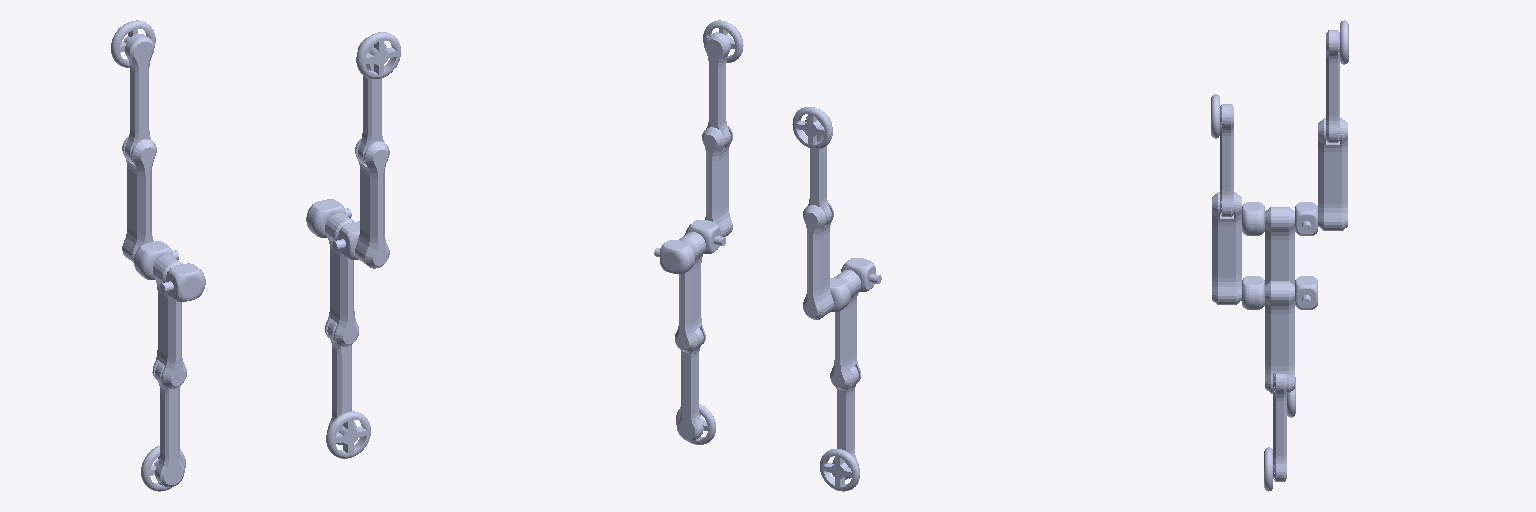
robot.urdf — dog_asm2:
<?xml version="1.0" encoding="utf-8"?>
<!-- This URDF was automatically created by SolidWorks to URDF Exporter! Originally created by [author] ([email redacted]) 
     Commit Version: 1.6.0-4-g7f85cfe  Build Version: 1.6.7995.38578
     For more information, please see http://wiki.ros.org/sw_urdf_exporter -->
<robot
  name="dog_asm2">
  <link
    name="Body">
    <inertial>
      <origin
        xyz="0.00138 8.263E-08 0.023473"
        rpy="0 0 0" />
      <mass
        value="15.156" />
      <inertia
        ixx="0.094082"
        ixy="-2.6571E-07"
        ixz="-0.0015648"
        iyy="0.33465"
        iyz="4.4097E-09"
        izz="0.38795" />
    </inertial>
    <visual>
      <origin
        xyz="0 0 0"
        rpy="0 0 0" />
      <geometry>
        <mesh
          filename="package://dog_asm2/meshes/Body.STL" />
      </geometry>
      <material
        name="">
        <color
          rgba="0.79216 0.81961 0.93333 1" />
      </material>
    </visual>
    <collision>
      <origin
        xyz="0 0 0"
        rpy="0 0 0" />
      <geometry>
        <mesh
          filename="package://dog_asm2/meshes/Body.STL" />
      </geometry>
    </collision>
  </link>
  <link
    name="ShoulderLF">
    <inertial>
      <origin
        xyz="-3.9581E-08 -0.0016347 0.0009406"
        rpy="0 0 0" />
      <mass
        value="0.71324" />
      <inertia
        ixx="0.00098521"
        ixy="-3.857E-10"
        ixz="-5.2743E-10"
        iyy="0.0010271"
        iyz="-1.0977E-06"
        izz="0.0008053" />
    </inertial>
    <visual>
      <origin
        xyz="0 0 0"
        rpy="0 0 0" />
      <geometry>
        <mesh
          filename="package://dog_asm2/meshes/ShoulderLF.STL" />
      </geometry>
      <material
        name="">
        <color
          rgba="0.79216 0.81961 0.93333 1" />
      </material>
    </visual>
    <collision>
      <origin
        xyz="0 0 0"
        rpy="0 0 0" />
      <geometry>
        <mesh
          filename="package://dog_asm2/meshes/ShoulderLF.STL" />
      </geometry>
    </collision>
  </link>
  <joint
    name="JShoulderLF"
    type="revolute">
    <origin
      xyz="0.29653 0.09 0.045"
      rpy="0 -1.5708 0" />
    <parent
      link="Body" />
    <child
      link="ShoulderLF" />
    <axis
      xyz="0 0 1" />
    <limit
      lower="0"
      upper="0"
      effort="0"
      velocity="0" />
  </joint>
  <link
    name="LegUpLF">
    <inertial>
      <origin
        xyz="0.14026 -1.4694E-09 -0.049588"
        rpy="0 0 0" />
      <mass
        value="1.8015" />
      <inertia
        ixx="0.0018561"
        ixy="2.3214E-10"
        ixz="0.0001041"
        iyy="0.025399"
        iyz="2.0829E-11"
        izz="0.02454" />
    </inertial>
    <visual>
      <origin
        xyz="0 0 0"
        rpy="0 0 0" />
      <geometry>
        <mesh
          filename="package://dog_asm2/meshes/LegUpLF.STL" />
      </geometry>
      <material
        name="">
        <color
          rgba="0.79216 0.81961 0.93333 1" />
      </material>
    </visual>
    <collision>
      <origin
        xyz="0 0 0"
        rpy="0 0 0" />
      <geometry>
        <mesh
          filename="package://dog_asm2/meshes/LegUpLF.STL" />
      </geometry>
    </collision>
  </link>
  <joint
    name="JLegUpLF"
    type="revolute">
    <origin
      xyz="0 -0.14 0"
      rpy="-1.5708 0 3.1416" />
    <parent
      link="ShoulderLF" />
    <child
      link="LegUpLF" />
    <axis
      xyz="0 0 1" />
    <limit
      lower="0"
      upper="0"
      effort="0"
      velocity="0" />
  </joint>
  <link
    name="LegDownLF">
    <inertial>
      <origin
        xyz="0.16508 7.3787E-10 -0.014832"
        rpy="0 0 0" />
      <mass
        value="1.0517" />
      <inertia
        ixx="0.00049517"
        ixy="5.3453E-09"
        ixz="-3.7043E-05"
        iyy="0.016979"
        iyz="-1.2566E-11"
        izz="0.017119" />
    </inertial>
    <visual>
      <origin
        xyz="0 0 0"
        rpy="0 0 0" />
      <geometry>
        <mesh
          filename="package://dog_asm2/meshes/LegDownLF.STL" />
      </geometry>
      <material
        name="">
        <color
          rgba="0.79216 0.81961 0.93333 1" />
      </material>
    </visual>
    <collision>
      <origin
        xyz="0 0 0"
        rpy="0 0 0" />
      <geometry>
        <mesh
          filename="package://dog_asm2/meshes/LegDownLF.STL" />
      </geometry>
    </collision>
  </link>
  <joint
    name="JLegDownLF"
    type="revolute">
    <origin
      xyz="0.33 0 -0.035"
      rpy="0 0 0" />
    <parent
      link="LegUpLF" />
    <child
      link="LegDownLF" />
    <axis
      xyz="0 0 1" />
    <limit
      lower="0"
      upper="0"
      effort="0"
      velocity="0" />
  </joint>
  <link
    name="WheelLF">
    <inertial>
      <origin
        xyz="-1.1102E-16 5.5511E-17 0.015169"
        rpy="0 0 0" />
      <mass
        value="0.32751" />
      <inertia
        ixx="0.00051056"
        ixy="-2.283E-21"
        ixz="-8.8911E-21"
        iyy="0.00051056"
        iyz="-6.918E-22"
        izz="0.00097786" />
    </inertial>
    <visual>
      <origin
        xyz="0 0 0"
        rpy="0 0 0" />
      <geometry>
        <mesh
          filename="package://dog_asm2/meshes/WheelLF.STL" />
      </geometry>
      <material
        name="">
        <color
          rgba="0.79216 0.81961 0.93333 1" />
      </material>
    </visual>
    <collision>
      <origin
        xyz="0 0 0"
        rpy="0 0 0" />
      <geometry>
        <mesh
          filename="package://dog_asm2/meshes/WheelLF.STL" />
      </geometry>
    </collision>
  </link>
  <joint
    name="JWheelLF"
    type="revolute">
    <origin
      xyz="0.33 0 0.008"
      rpy="0 0 0" />
    <parent
      link="LegDownLF" />
    <child
      link="WheelLF" />
    <axis
      xyz="0 0 1" />
    <limit
      lower="0"
      upper="0"
      effort="0"
      velocity="0" />
  </joint>
  <link
    name="ShoulderRF">
    <inertial>
      <origin
        xyz="-3.9581E-08 -0.0016347 0.0009406"
        rpy="0 0 0" />
      <mass
        value="0.71324" />
      <inertia
        ixx="0.00098521"
        ixy="-3.857E-10"
        ixz="-5.2743E-10"
        iyy="0.0010271"
        iyz="-1.0977E-06"
        izz="0.0008053" />
    </inertial>
    <visual>
      <origin
        xyz="0 0 0"
        rpy="0 0 0" />
      <geometry>
        <mesh
          filename="package://dog_asm2/meshes/ShoulderRF.STL" />
      </geometry>
      <material
        name="">
        <color
          rgba="0.79216 0.81961 0.93333 1" />
      </material>
    </visual>
    <collision>
      <origin
        xyz="0 0 0"
        rpy="0 0 0" />
      <geometry>
        <mesh
          filename="package://dog_asm2/meshes/ShoulderRF.STL" />
      </geometry>
    </collision>
  </link>
  <joint
    name="JShoulderRF"
    type="revolute">
    <origin
      xyz="0.29653 -0.09 0.045"
      rpy="0 1.5708 0" />
    <parent
      link="Body" />
    <child
      link="ShoulderRF" />
    <axis
      xyz="0 0 1" />
    <limit
      lower="0"
      upper="0"
      effort="0"
      velocity="0" />
  </joint>
  <link
    name="LegUpRF">
    <inertial>
      <origin
        xyz="0.14026 -1.4694E-09 -0.049588"
        rpy="0 0 0" />
      <mass
        value="1.8015" />
      <inertia
        ixx="0.0018561"
        ixy="2.3214E-10"
        ixz="0.0001041"
        iyy="0.025399"
        iyz="2.0829E-11"
        izz="0.02454" />
    </inertial>
    <visual>
      <origin
        xyz="0 0 0"
        rpy="0 0 0" />
      <geometry>
        <mesh
          filename="package://dog_asm2/meshes/LegUpRF.STL" />
      </geometry>
      <material
        name="">
        <color
          rgba="0.79216 0.81961 0.93333 1" />
      </material>
    </visual>
    <collision>
      <origin
        xyz="0 0 0"
        rpy="0 0 0" />
      <geometry>
        <mesh
          filename="package://dog_asm2/meshes/LegUpRF.STL" />
      </geometry>
    </collision>
  </link>
  <joint
    name="JLegUpRF"
    type="revolute">
    <origin
      xyz="0 -0.14 0"
      rpy="-1.5708 0 3.1416" />
    <parent
      link="ShoulderRF" />
    <child
      link="LegUpRF" />
    <axis
      xyz="0 0 1" />
    <limit
      lower="0"
      upper="0"
      effort="0"
      velocity="0" />
  </joint>
  <link
    name="LegDownRF">
    <inertial>
      <origin
        xyz="0.16508 7.3787E-10 -0.014832"
        rpy="0 0 0" />
      <mass
        value="1.0517" />
      <inertia
        ixx="0.00049517"
        ixy="5.3453E-09"
        ixz="-3.7043E-05"
        iyy="0.016979"
        iyz="-1.2566E-11"
        izz="0.017119" />
    </inertial>
    <visual>
      <origin
        xyz="0 0 0"
        rpy="0 0 0" />
      <geometry>
        <mesh
          filename="package://dog_asm2/meshes/LegDownRF.STL" />
      </geometry>
      <material
        name="">
        <color
          rgba="0.79216 0.81961 0.93333 1" />
      </material>
    </visual>
    <collision>
      <origin
        xyz="0 0 0"
        rpy="0 0 0" />
      <geometry>
        <mesh
          filename="package://dog_asm2/meshes/LegDownRF.STL" />
      </geometry>
    </collision>
  </link>
  <joint
    name="JLegDownRF"
    type="revolute">
    <origin
      xyz="0.33 0 -0.035"
      rpy="0 0 0" />
    <parent
      link="LegUpRF" />
    <child
      link="LegDownRF" />
    <axis
      xyz="0 0 1" />
    <limit
      lower="0"
      upper="0"
      effort="0"
      velocity="0" />
  </joint>
  <link
    name="WheelRF">
    <inertial>
      <origin
        xyz="0 5.5511E-17 0.015169"
        rpy="0 0 0" />
      <mass
        value="0.32751" />
      <inertia
        ixx="0.00051056"
        ixy="-3.2136E-21"
        ixz="-8.8911E-21"
        iyy="0.00051056"
        iyz="-6.4308E-22"
        izz="0.00097786" />
    </inertial>
    <visual>
      <origin
        xyz="0 0 0"
        rpy="0 0 0" />
      <geometry>
        <mesh
          filename="package://dog_asm2/meshes/WheelRF.STL" />
      </geometry>
      <material
        name="">
        <color
          rgba="0.79216 0.81961 0.93333 1" />
      </material>
    </visual>
    <collision>
      <origin
        xyz="0 0 0"
        rpy="0 0 0" />
      <geometry>
        <mesh
          filename="package://dog_asm2/meshes/WheelRF.STL" />
      </geometry>
    </collision>
  </link>
  <joint
    name="JWheelRF"
    type="revolute">
    <origin
      xyz="0.33 0 0.008"
      rpy="0 0 0" />
    <parent
      link="LegDownRF" />
    <child
      link="WheelRF" />
    <axis
      xyz="0 0 1" />
    <limit
      lower="0"
      upper="0"
      effort="0"
      velocity="0" />
  </joint>
  <link
    name="ShoulderLB">
    <inertial>
      <origin
        xyz="-3.9581E-08 -0.0016347 0.0009406"
        rpy="0 0 0" />
      <mass
        value="0.71324" />
      <inertia
        ixx="0.00098521"
        ixy="-3.857E-10"
        ixz="-5.2743E-10"
        iyy="0.0010271"
        iyz="-1.0977E-06"
        izz="0.0008053" />
    </inertial>
    <visual>
      <origin
        xyz="0 0 0"
        rpy="0 0 0" />
      <geometry>
        <mesh
          filename="package://dog_asm2/meshes/ShoulderLB.STL" />
      </geometry>
      <material
        name="">
        <color
          rgba="0.79216 0.81961 0.93333 1" />
      </material>
    </visual>
    <collision>
      <origin
        xyz="0 0 0"
        rpy="0 0 0" />
      <geometry>
        <mesh
          filename="package://dog_asm2/meshes/ShoulderLB.STL" />
      </geometry>
    </collision>
  </link>
  <joint
    name="JShoulderLB"
    type="revolute">
    <origin
      xyz="-0.29653 0.09 0.045"
      rpy="3.1416 1.5708 0" />
    <parent
      link="Body" />
    <child
      link="ShoulderLB" />
    <axis
      xyz="0 0 1" />
    <limit
      lower="0"
      upper="0"
      effort="0"
      velocity="0" />
  </joint>
  <link
    name="LegUpLB">
    <inertial>
      <origin
        xyz="0.14026 -1.4694E-09 -0.049588"
        rpy="0 0 0" />
      <mass
        value="1.8015" />
      <inertia
        ixx="0.0018561"
        ixy="2.3214E-10"
        ixz="0.0001041"
        iyy="0.025399"
        iyz="2.0829E-11"
        izz="0.02454" />
    </inertial>
    <visual>
      <origin
        xyz="0 0 0"
        rpy="0 0 0" />
      <geometry>
        <mesh
          filename="package://dog_asm2/meshes/LegUpLB.STL" />
      </geometry>
      <material
        name="">
        <color
          rgba="0.79216 0.81961 0.93333 1" />
      </material>
    </visual>
    <collision>
      <origin
        xyz="0 0 0"
        rpy="0 0 0" />
      <geometry>
        <mesh
          filename="package://dog_asm2/meshes/LegUpLB.STL" />
      </geometry>
    </collision>
  </link>
  <joint
    name="JLegUpLB"
    type="revolute">
    <origin
      xyz="0 -0.14 0"
      rpy="-1.5708 0 3.1416" />
    <parent
      link="ShoulderLB" />
    <child
      link="LegUpLB" />
    <axis
      xyz="0 0 1" />
    <limit
      lower="0"
      upper="0"
      effort="0"
      velocity="0" />
  </joint>
  <link
    name="LegDownLB">
    <inertial>
      <origin
        xyz="0.16508 7.3787E-10 -0.014832"
        rpy="0 0 0" />
      <mass
        value="1.0517" />
      <inertia
        ixx="0.00049517"
        ixy="5.3453E-09"
        ixz="-3.7043E-05"
        iyy="0.016979"
        iyz="-1.2566E-11"
        izz="0.017119" />
    </inertial>
    <visual>
      <origin
        xyz="0 0 0"
        rpy="0 0 0" />
      <geometry>
        <mesh
          filename="package://dog_asm2/meshes/LegDownLB.STL" />
      </geometry>
      <material
        name="">
        <color
          rgba="0.79216 0.81961 0.93333 1" />
      </material>
    </visual>
    <collision>
      <origin
        xyz="0 0 0"
        rpy="0 0 0" />
      <geometry>
        <mesh
          filename="package://dog_asm2/meshes/LegDownLB.STL" />
      </geometry>
    </collision>
  </link>
  <joint
    name="JLegDownLB"
    type="revolute">
    <origin
      xyz="0.33 0 -0.035"
      rpy="0 0 0" />
    <parent
      link="LegUpLB" />
    <child
      link="LegDownLB" />
    <axis
      xyz="0 0 1" />
    <limit
      lower="0"
      upper="0"
      effort="0"
      velocity="0" />
  </joint>
  <link
    name="WheelLB">
    <inertial>
      <origin
        xyz="0 5.5511E-17 0.015169"
        rpy="0 0 0" />
      <mass
        value="0.32751" />
      <inertia
        ixx="0.00051056"
        ixy="-5.385E-21"
        ixz="-8.8911E-21"
        iyy="0.00051056"
        iyz="-7.2304E-22"
        izz="0.00097786" />
    </inertial>
    <visual>
      <origin
        xyz="0 0 0"
        rpy="0 0 0" />
      <geometry>
        <mesh
          filename="package://dog_asm2/meshes/WheelLB.STL" />
      </geometry>
      <material
        name="">
        <color
          rgba="0.79216 0.81961 0.93333 1" />
      </material>
    </visual>
    <collision>
      <origin
        xyz="0 0 0"
        rpy="0 0 0" />
      <geometry>
        <mesh
          filename="package://dog_asm2/meshes/WheelLB.STL" />
      </geometry>
    </collision>
  </link>
  <joint
    name="JWheelLB"
    type="revolute">
    <origin
      xyz="0.33 0 0.008"
      rpy="0 0 0" />
    <parent
      link="LegDownLB" />
    <child
      link="WheelLB" />
    <axis
      xyz="0 0 1" />
    <limit
      lower="0"
      upper="0"
      effort="0"
      velocity="0" />
  </joint>
  <link
    name="ShoulderRB">
    <inertial>
      <origin
        xyz="-3.9581E-08 -0.0016347 0.0009406"
        rpy="0 0 0" />
      <mass
        value="0.71324" />
      <inertia
        ixx="0.00098521"
        ixy="-3.857E-10"
        ixz="-5.2743E-10"
        iyy="0.0010271"
        iyz="-1.0977E-06"
        izz="0.0008053" />
    </inertial>
    <visual>
      <origin
        xyz="0 0 0"
        rpy="0 0 0" />
      <geometry>
        <mesh
          filename="package://dog_asm2/meshes/ShoulderRB.STL" />
      </geometry>
      <material
        name="">
        <color
          rgba="0.79216 0.81961 0.93333 1" />
      </material>
    </visual>
    <collision>
      <origin
        xyz="0 0 0"
        rpy="0 0 0" />
      <geometry>
        <mesh
          filename="package://dog_asm2/meshes/ShoulderRB.STL" />
      </geometry>
    </collision>
  </link>
  <joint
    name="JShoulderRB"
    type="revolute">
    <origin
      xyz="-0.29653 -0.09 0.045"
      rpy="3.1416 -1.5708 0" />
    <parent
      link="Body" />
    <child
      link="ShoulderRB" />
    <axis
      xyz="0 0 1" />
    <limit
      lower="0"
      upper="0"
      effort="0"
      velocity="0" />
  </joint>
  <link
    name="LegUpRB">
    <inertial>
      <origin
        xyz="0.14026 -1.4694E-09 -0.049588"
        rpy="0 0 0" />
      <mass
        value="1.8015" />
      <inertia
        ixx="0.0018561"
        ixy="2.3214E-10"
        ixz="0.0001041"
        iyy="0.025399"
        iyz="2.0829E-11"
        izz="0.02454" />
    </inertial>
    <visual>
      <origin
        xyz="0 0 0"
        rpy="0 0 0" />
      <geometry>
        <mesh
          filename="package://dog_asm2/meshes/LegUpRB.STL" />
      </geometry>
      <material
        name="">
        <color
          rgba="0.79216 0.81961 0.93333 1" />
      </material>
    </visual>
    <collision>
      <origin
        xyz="0 0 0"
        rpy="0 0 0" />
      <geometry>
        <mesh
          filename="package://dog_asm2/meshes/LegUpRB.STL" />
      </geometry>
    </collision>
  </link>
  <joint
    name="JLegUpRB"
    type="revolute">
    <origin
      xyz="0 -0.14 0"
      rpy="-1.5708 0 3.1416" />
    <parent
      link="ShoulderRB" />
    <child
      link="LegUpRB" />
    <axis
      xyz="0 0 1" />
    <limit
      lower="0"
      upper="0"
      effort="0"
      velocity="0" />
  </joint>
  <link
    name="LegDownRB">
    <inertial>
      <origin
        xyz="0.16508 7.3787E-10 -0.014832"
        rpy="0 0 0" />
      <mass
        value="1.0517" />
      <inertia
        ixx="0.00049517"
        ixy="5.3453E-09"
        ixz="-3.7043E-05"
        iyy="0.016979"
        iyz="-1.2566E-11"
        izz="0.017119" />
    </inertial>
    <visual>
      <origin
        xyz="0 0 0"
        rpy="0 0 0" />
      <geometry>
        <mesh
          filename="package://dog_asm2/meshes/LegDownRB.STL" />
      </geometry>
      <material
        name="">
        <color
          rgba="0.79216 0.81961 0.93333 1" />
      </material>
    </visual>
    <collision>
      <origin
        xyz="0 0 0"
        rpy="0 0 0" />
      <geometry>
        <mesh
          filename="package://dog_asm2/meshes/LegDownRB.STL" />
      </geometry>
    </collision>
  </link>
  <joint
    name="JLegDownRB"
    type="revolute">
    <origin
      xyz="0.33 0 -0.035"
      rpy="0 0 0" />
    <parent
      link="LegUpRB" />
    <child
      link="LegDownRB" />
    <axis
      xyz="0 0 1" />
    <limit
      lower="0"
      upper="0"
      effort="0"
      velocity="0" />
  </joint>
  <link
    name="WheelRB">
    <inertial>
      <origin
        xyz="-1.1102E-16 5.5511E-17 0.015169"
        rpy="0 0 0" />
      <mass
        value="0.32751" />
      <inertia
        ixx="0.00051056"
        ixy="-6.5223E-21"
        ixz="-8.8911E-21"
        iyy="0.00051056"
        iyz="-6.7552E-22"
        izz="0.00097786" />
    </inertial>
    <visual>
      <origin
        xyz="0 0 0"
        rpy="0 0 0" />
      <geometry>
        <mesh
          filename="package://dog_asm2/meshes/WheelRB.STL" />
      </geometry>
      <material
        name="">
        <color
          rgba="0.79216 0.81961 0.93333 1" />
      </material>
    </visual>
    <collision>
      <origin
        xyz="0 0 0"
        rpy="0 0 0" />
      <geometry>
        <mesh
          filename="package://dog_asm2/meshes/WheelRB.STL" />
      </geometry>
    </collision>
  </link>
  <joint
    name="JWheelRB"
    type="revolute">
    <origin
      xyz="0.33 0 0.008"
      rpy="0 0 0" />
    <parent
      link="LegDownRB" />
    <child
      link="WheelRB" />
    <axis
      xyz="0 0 1" />
    <limit
      lower="0"
      upper="0"
      effort="0"
      velocity="0" />
  </joint>
</robot>

--- Render facts (derived) ---
3 views of the same robot in one strip: view 1: azimuth 30°, elevation 25°; view 2: azimuth 150°, elevation 25°; view 3: azimuth 270°, elevation 25° (orthographic).
Model dog_asm2 with 17 links and 16 joints (16 revolute), rooted at Body, posed all joints at 0.
Links seen in each view (by area): view 1: LegUpRF, LegUpLB, LegUpLF, LegUpRB, LegDownLB, LegDownRB, LegDownLF, WheelLF, WheelRF, LegDownRF, ShoulderRB, ShoulderLF (+4 smaller); view 2: LegUpLB, LegUpRF, LegUpLF, LegUpRB, LegDownRF, LegDownLF, LegDownRB, WheelRB, WheelLB, LegDownLB, ShoulderLF, ShoulderRB (+4 smaller); view 3: LegUpLF, LegUpRF, LegUpLB, LegUpRB, LegDownRF, LegDownLB, LegDownLF, ShoulderRF, ShoulderRB, ShoulderLF, ShoulderLB.
Boxes of the visible links, left/top/right/bottom form: LegUpRF: left=355, top=138, right=389, bottom=268; LegUpLB: left=122, top=136, right=156, bottom=262; LegUpLF: left=325, top=213, right=358, bottom=346; LegUpRB: left=152, top=255, right=186, bottom=388; LegDownLB: left=125, top=34, right=153, bottom=161; LegDownRB: left=155, top=362, right=184, bottom=486; LegDownLF: left=327, top=319, right=356, bottom=444; WheelLF: left=326, top=411, right=370, bottom=458; WheelRF: left=356, top=32, right=400, bottom=78; LegDownRF: left=358, top=37, right=386, bottom=163; ShoulderRB: left=160, top=263, right=205, bottom=301; ShoulderLF: left=306, top=199, right=351, bottom=237; LegUpLB: left=803, top=202, right=833, bottom=319; LegUpRF: left=702, top=125, right=732, bottom=236; LegUpLF: left=675, top=232, right=705, bottom=352; LegUpRB: left=830, top=270, right=860, bottom=390; LegDownRF: left=704, top=32, right=730, bottom=146; LegDownLF: left=677, top=328, right=703, bottom=441; LegDownRB: left=832, top=366, right=858, bottom=479; WheelRB: left=820, top=449, right=859, bottom=491; WheelLB: left=792, top=107, right=832, bottom=148; LegDownLB: left=805, top=111, right=831, bottom=225; ShoulderLF: left=654, top=240, right=694, bottom=273; ShoulderRB: left=841, top=258, right=881, bottom=291; LegUpLF: left=1265, top=281, right=1294, bottom=393; LegUpRF: left=1212, top=192, right=1241, bottom=304; LegUpLB: left=1318, top=118, right=1347, bottom=230; LegUpRB: left=1265, top=207, right=1294, bottom=284; LegDownRF: left=1220, top=104, right=1233, bottom=216; LegDownLB: left=1326, top=30, right=1339, bottom=142; LegDownLF: left=1273, top=374, right=1286, bottom=481; ShoulderRF: left=1242, top=276, right=1264, bottom=309; ShoulderRB: left=1242, top=202, right=1264, bottom=235; ShoulderLF: left=1295, top=276, right=1317, bottom=309; ShoulderLB: left=1295, top=202, right=1317, bottom=235.
Bounding box of the posed robot: 0.7461 × 0.466 × 1.47 m (x, y, z).
Meshes: 17 distinct files referenced, 16 mesh visuals loaded (16 binary STL); not drawn: 1 (reference not matched to a file when rendering).